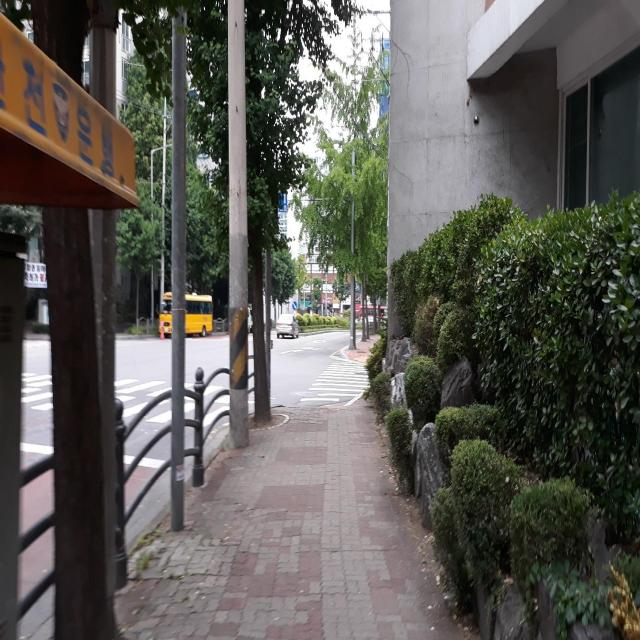횡단보도: (299, 360, 372, 402)
